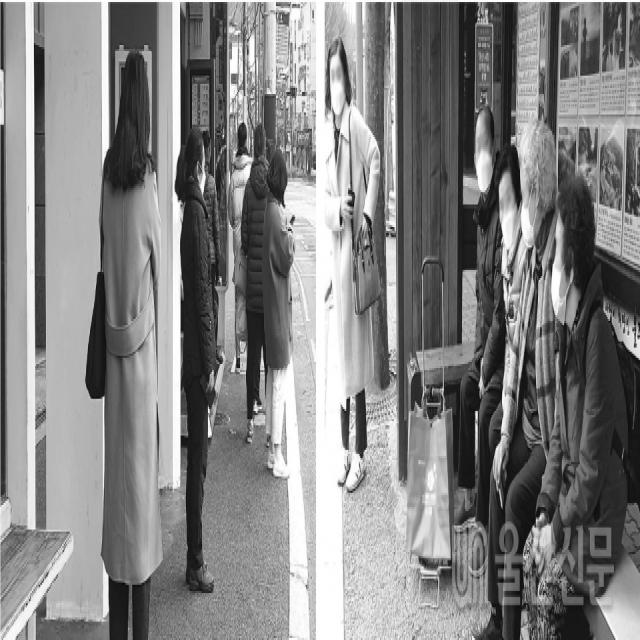person: (316, 27, 392, 500), (543, 175, 620, 631), (104, 32, 160, 640), (170, 100, 229, 594), (462, 73, 508, 486), (517, 107, 559, 500), (248, 116, 280, 452), (492, 158, 525, 424), (268, 152, 291, 505), (234, 123, 262, 365)
